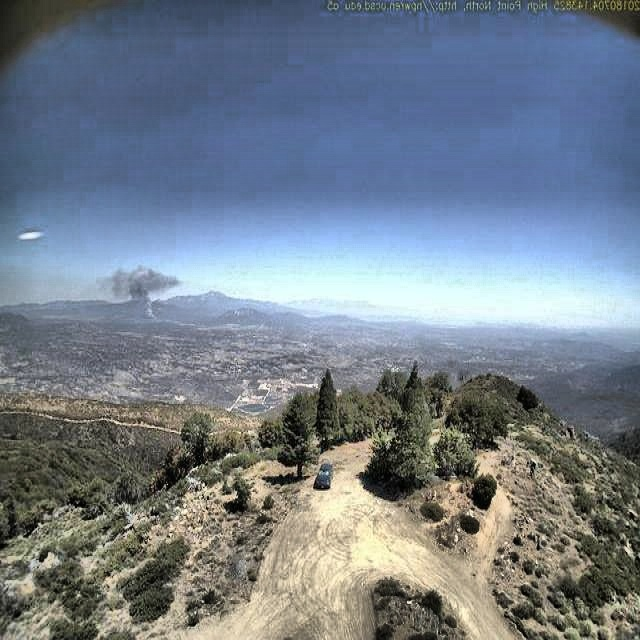smoke: (95, 261, 184, 320)
